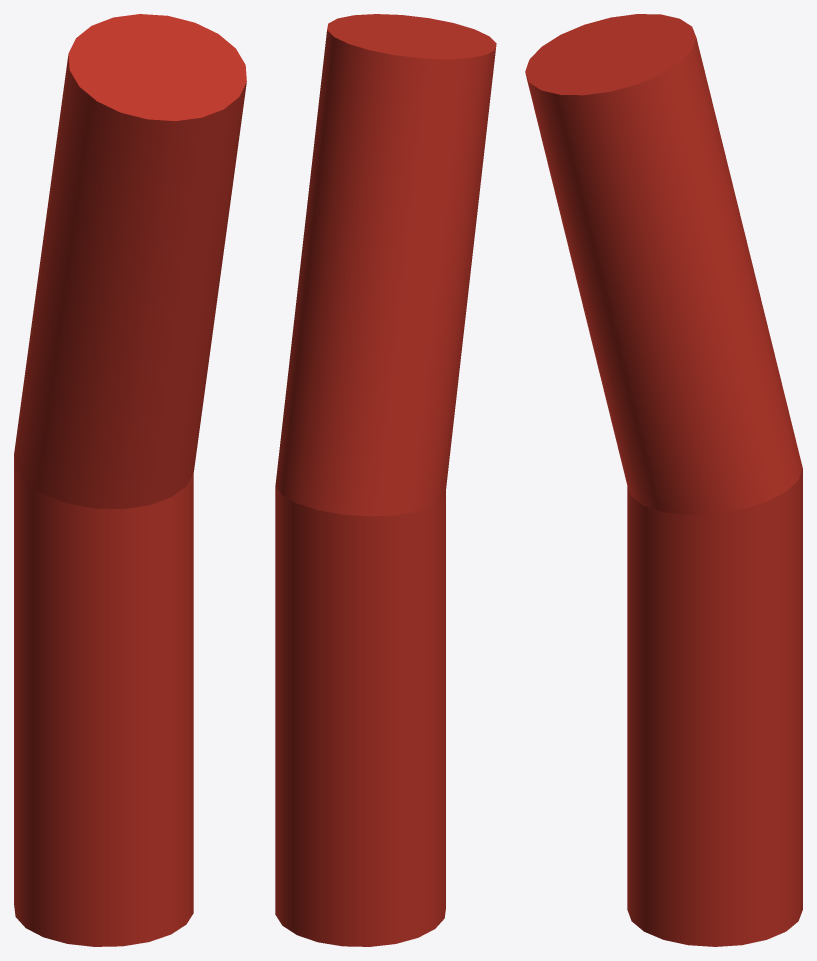
Rendered from arm_right.obj.
The picture shows the model from 3 angles, left to right: view 1: azimuth 30°, elevation 25°; view 2: azimuth 150°, elevation 25°; view 3: azimuth 270°, elevation 25°; orthographic projection. The views are drawn at different scales.
Parts seen in each view (by area): view 1: Body1; view 2: Body1; view 3: Body1.
Part boxes in pixels (x1,y1,x2,y2): Body1: (14, 14, 246, 946); Body1: (275, 14, 496, 946); Body1: (525, 14, 802, 946).
Bounding box in the file's own units: 0.15 × 0.8231 × 0.2374.
